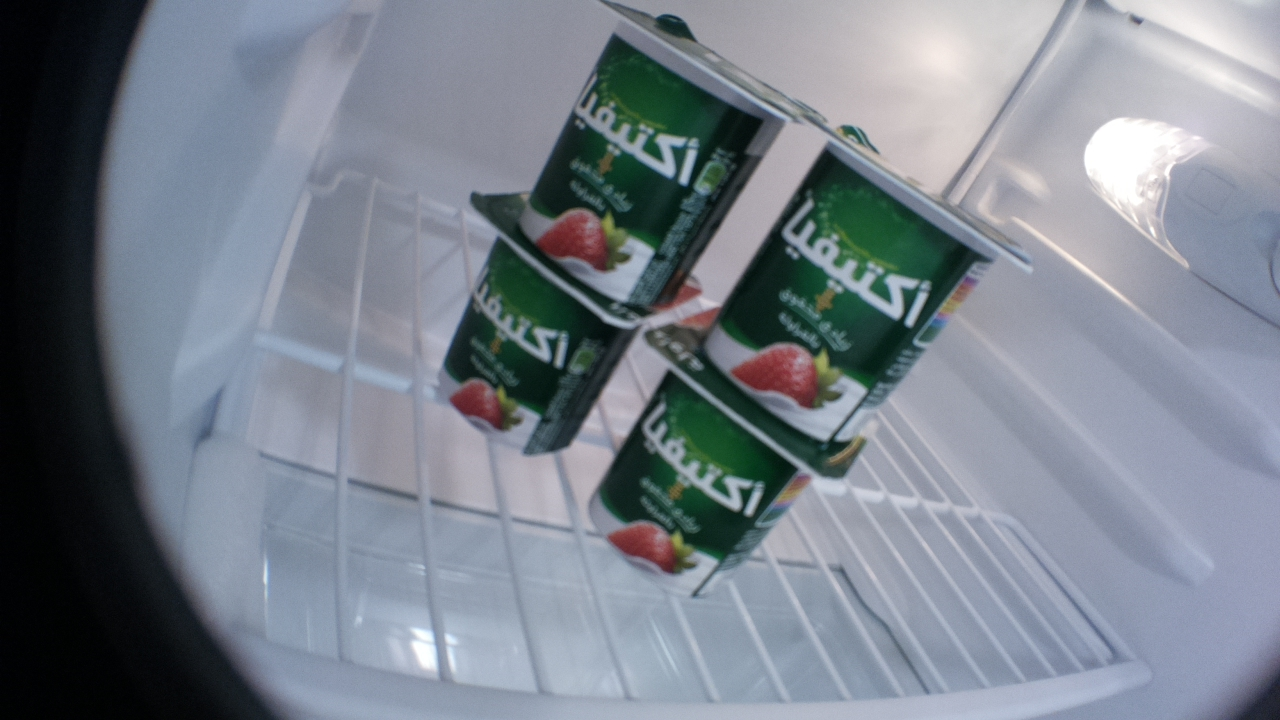yoghurt: (703, 118, 1036, 439), (514, 1, 823, 308), (586, 316, 867, 603), (428, 188, 705, 458)
